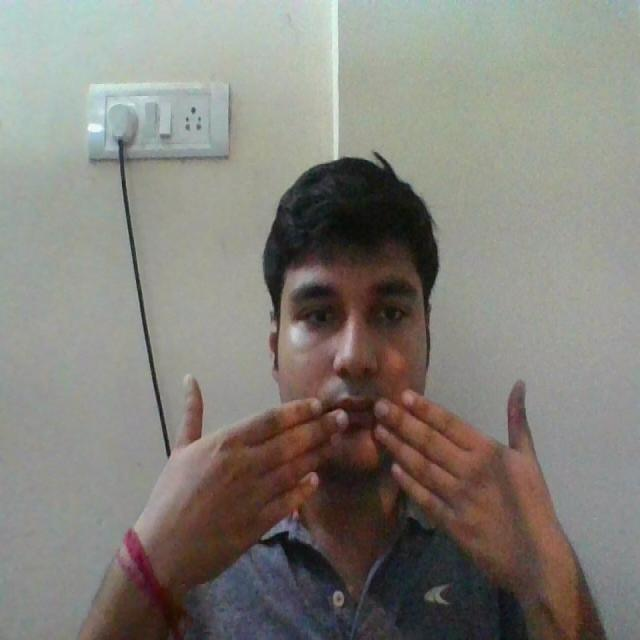Thanks: (129, 377, 624, 640)
